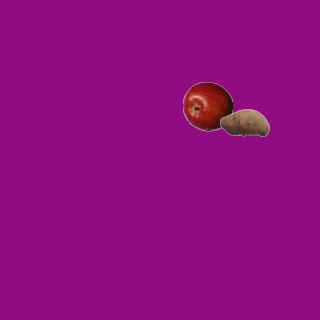Apple Braeburn: (182, 81, 232, 131)
Potato Sweet: (219, 97, 269, 147)
